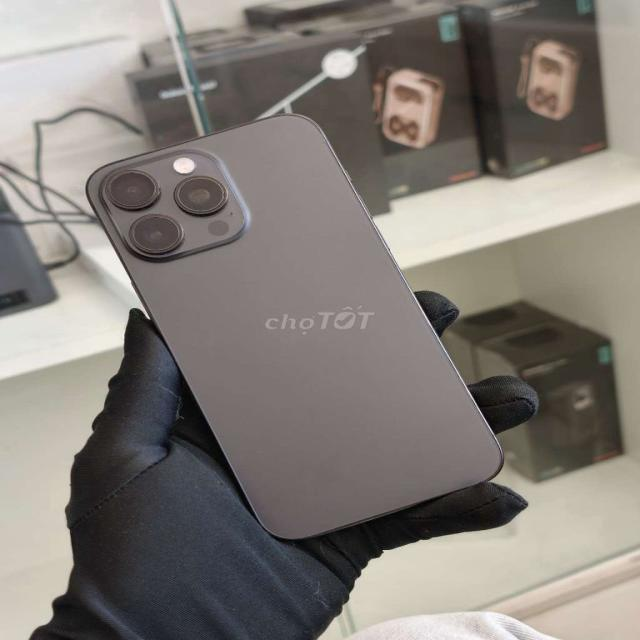gen_15: (78, 116, 508, 546)
